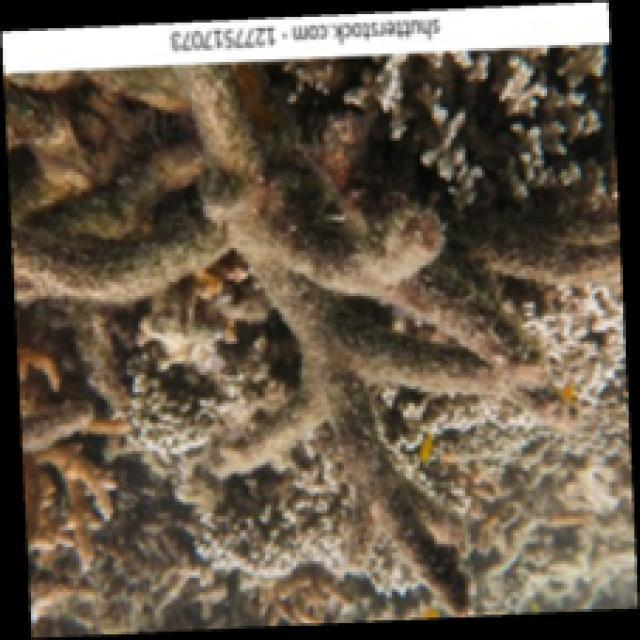Dead Coral: (55, 91, 596, 613)
